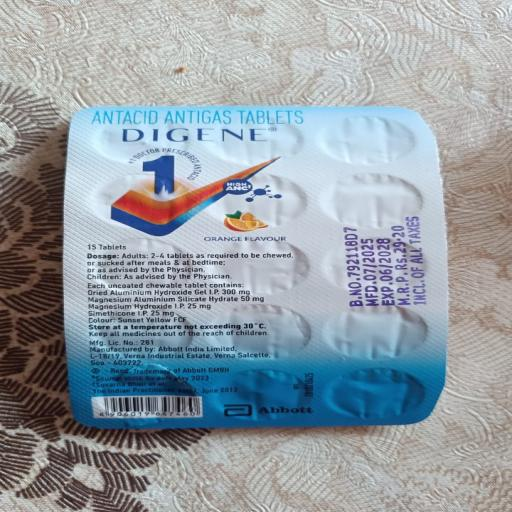digene: (66, 102, 460, 454)
